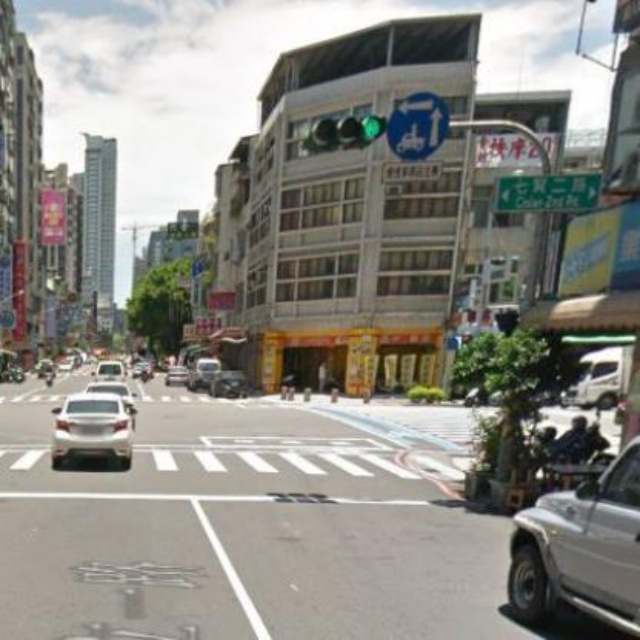Đèn xanh: (307, 113, 383, 148)
